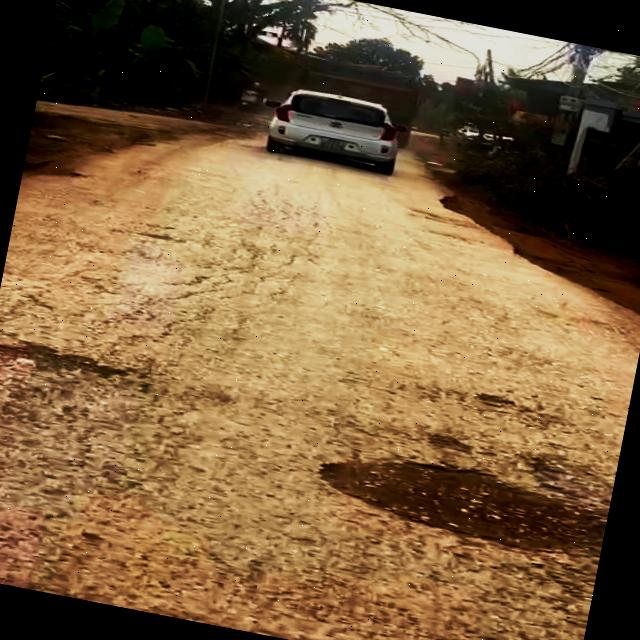pothole: (308, 431, 614, 566), (0, 330, 189, 471)
